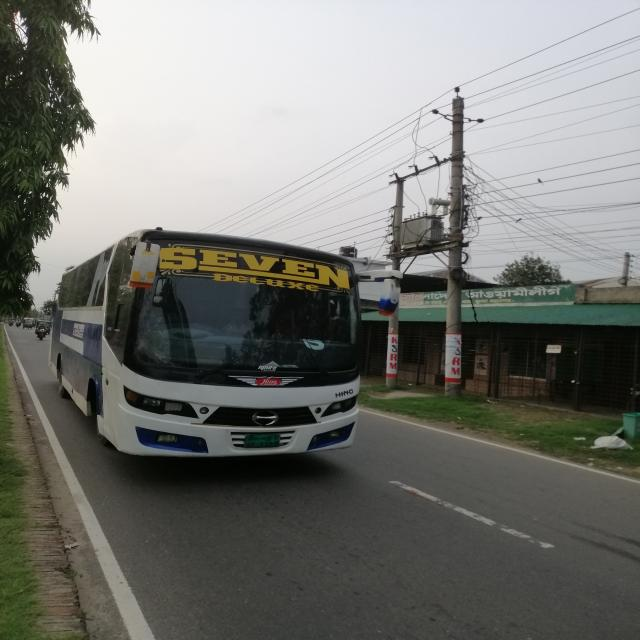Bus: (49, 227, 365, 465)
